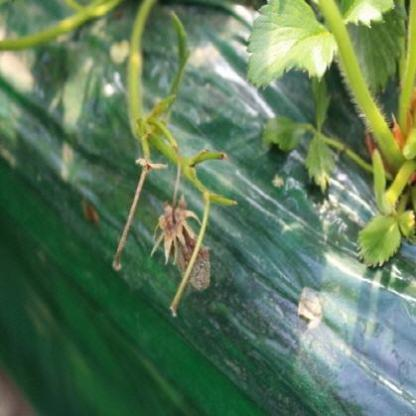Strawberry_Gray_Mold: (151, 191, 212, 292)
